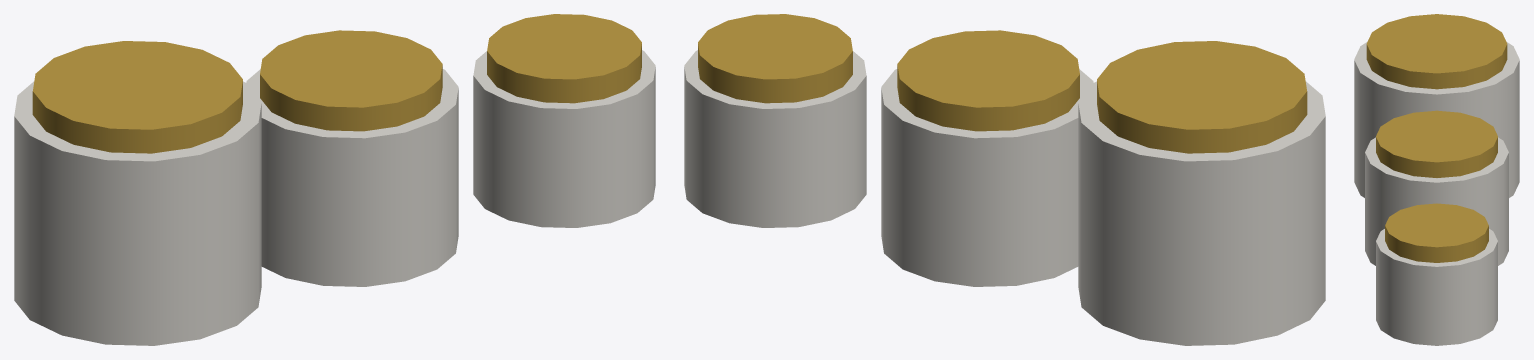
File: flour-sugar-coffee-something.glb
3 renders of one model, left to right at view 1: azimuth 30°, elevation 25°; view 2: azimuth 150°, elevation 25°; view 3: azimuth 270°, elevation 25°, orthographic. The views are drawn at different scales.
Size of the model in its own units: 2.16 by 0.7 by 0.76.
